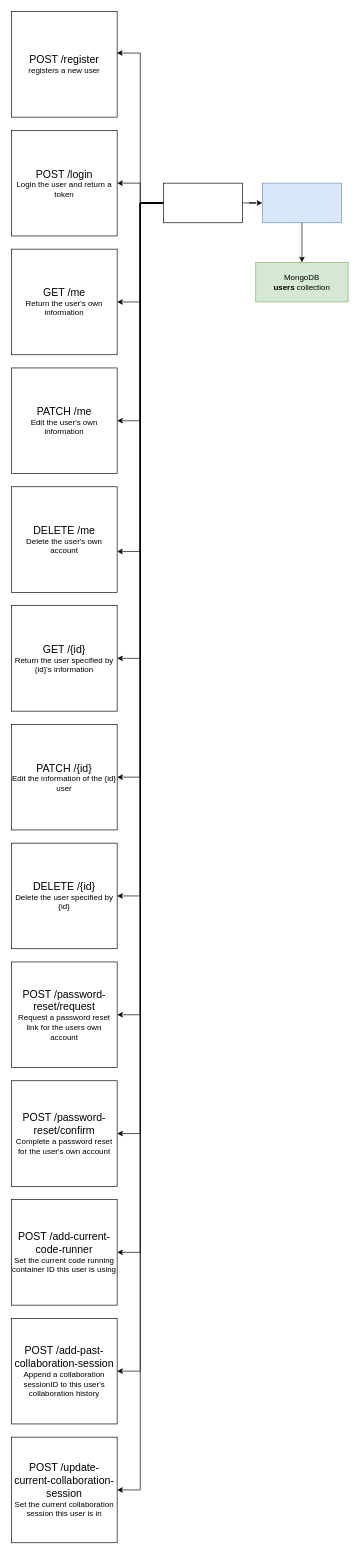
Some shapes in this 360 by 1554 pixel diagram are drawn without their labels. The shapes that lost their labels are listed below. From the top down, each one's centre as x and y in pixels, then its label:
(x=203, y=202): Authentication Middleware
(x=302, y=202): User Service
